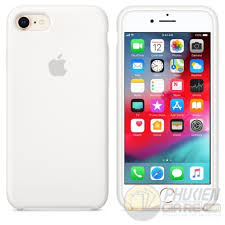iphone: (4, 2, 112, 214), (114, 1, 222, 212)
iphone7: (114, 1, 222, 212)
